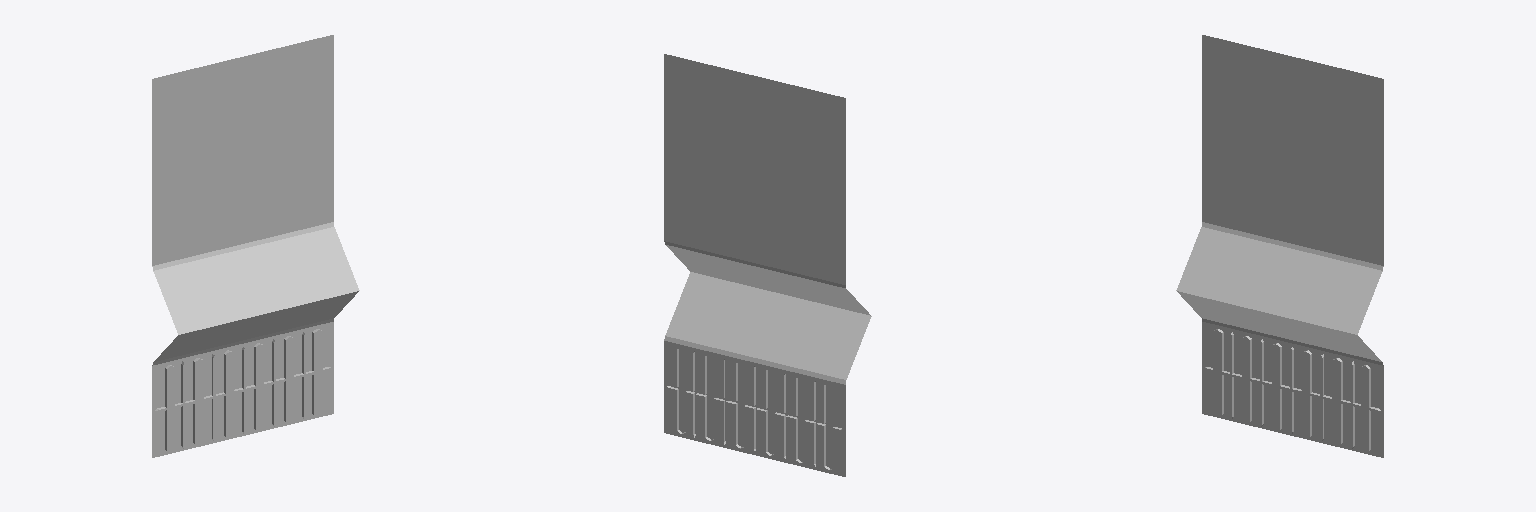
The model's file is wall_part_7.obj.
The picture shows the model from 3 angles: view 1: azimuth 30°, elevation 25°; view 2: azimuth 150°, elevation 25°; view 3: azimuth 330°, elevation 25°; orthographic projection.
Parts seen in each view (by area): view 1: Cube.006_Cube.010; view 2: Cube.006_Cube.010; view 3: Cube.006_Cube.010.
Part boxes in pixels (left/top/right/bottom): Cube.006_Cube.010: left=152, top=35, right=359, bottom=457; Cube.006_Cube.010: left=664, top=54, right=871, bottom=476; Cube.006_Cube.010: left=1176, top=35, right=1383, bottom=457.
Bounding box in the file's own units: 4 × 8 × 1.